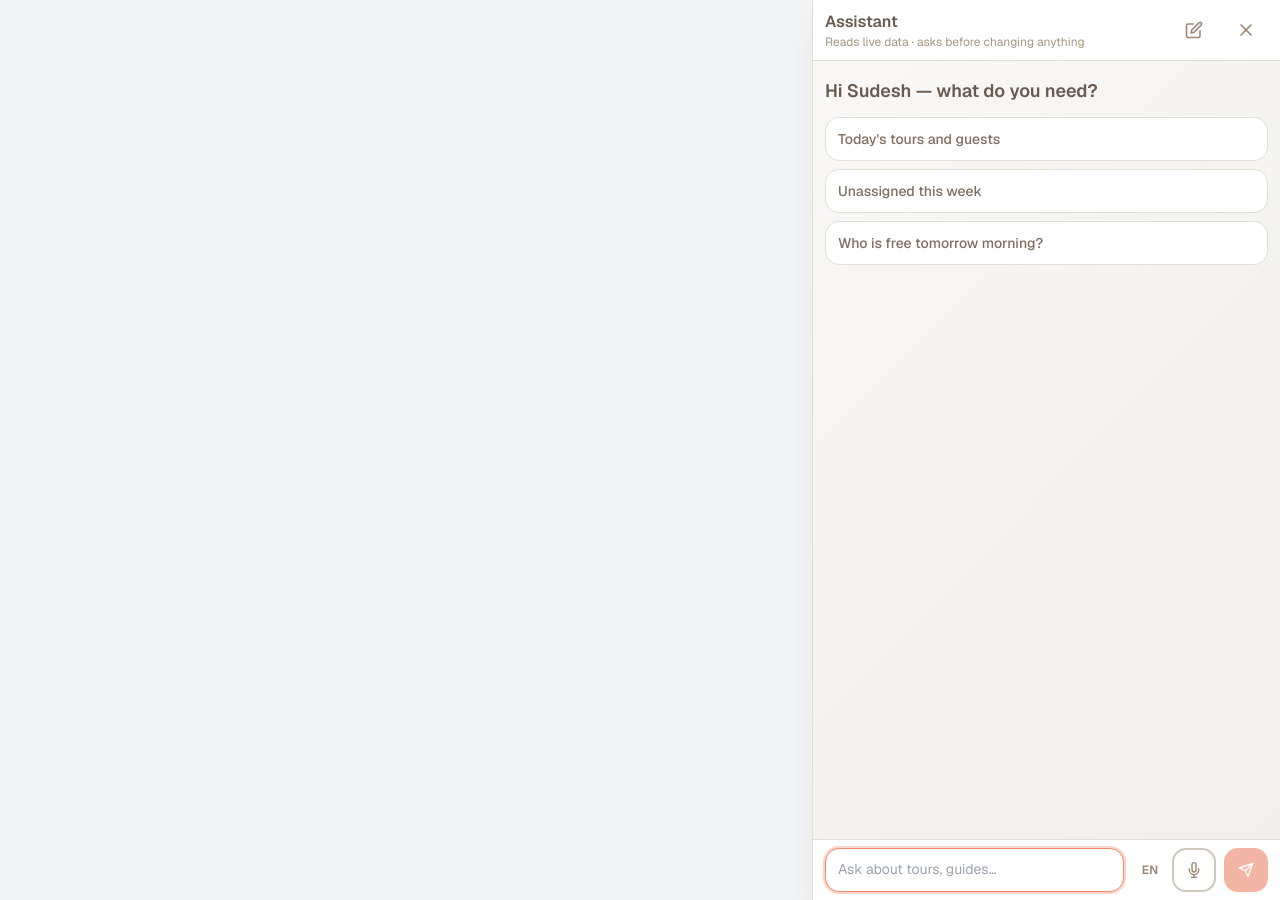
Test: AssistantPanel (step 7.4) › an error shows one line and keeps the typed text
This screenshot has width=1280, height=900.
Type "today income" into the text box named "Message" at {"x": 974, "y": 870}, box x1=825 y1=848 x2=1124 y2=892
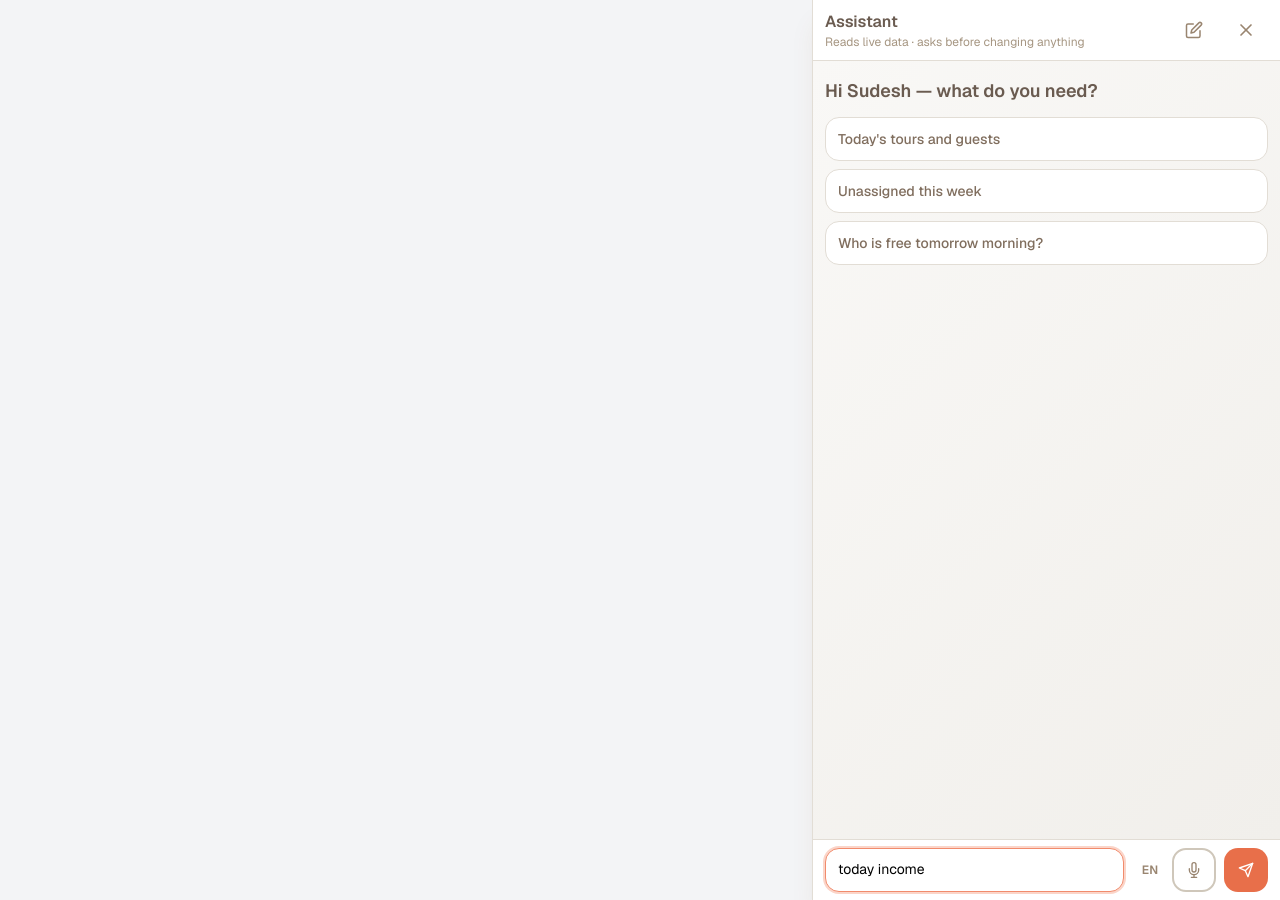
Click the button named "Send" at {"x": 1246, "y": 870}, box x1=1224 y1=848 x2=1268 y2=892
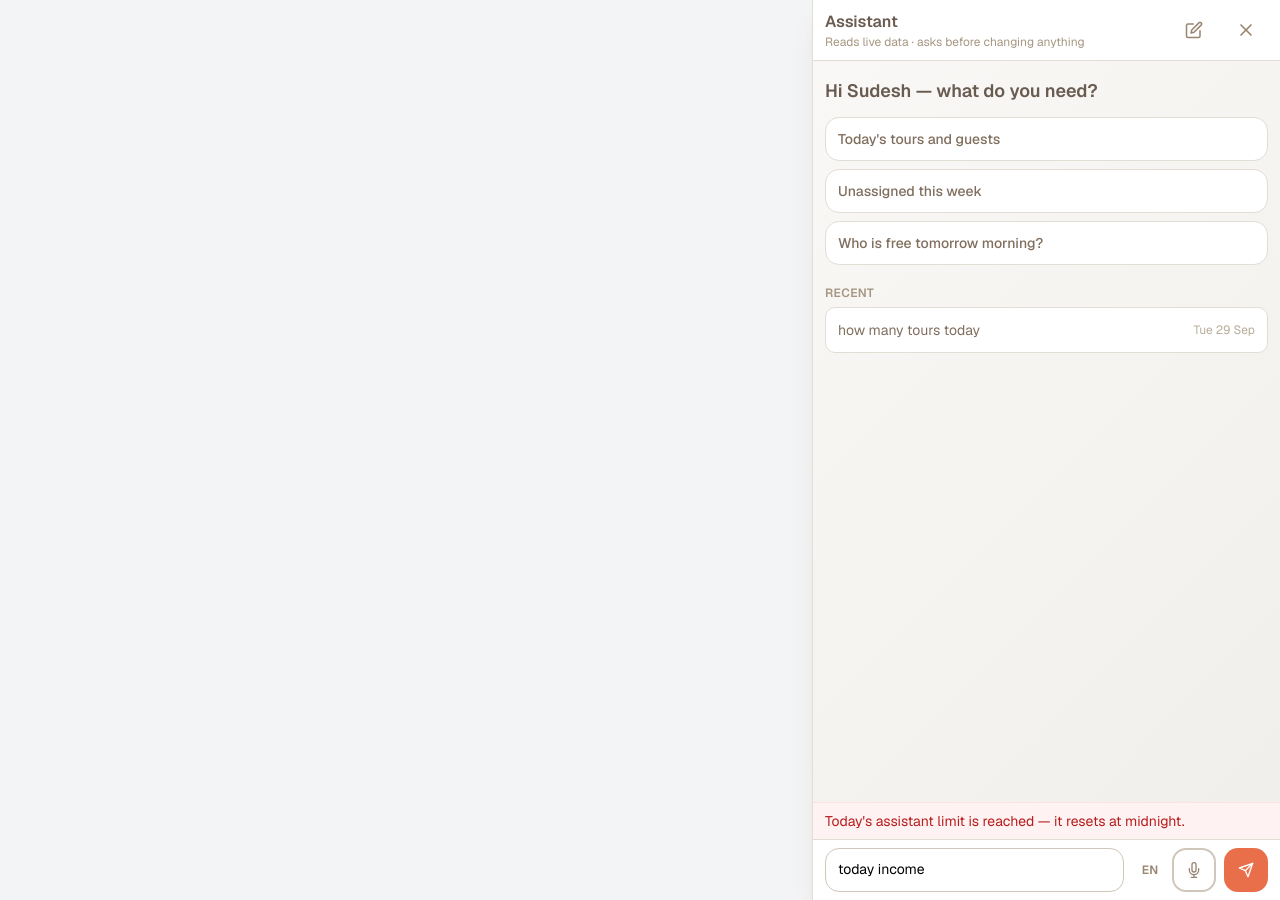
Expected: the message shows "midnight", x1=825 y1=812 x2=1184 y2=830
